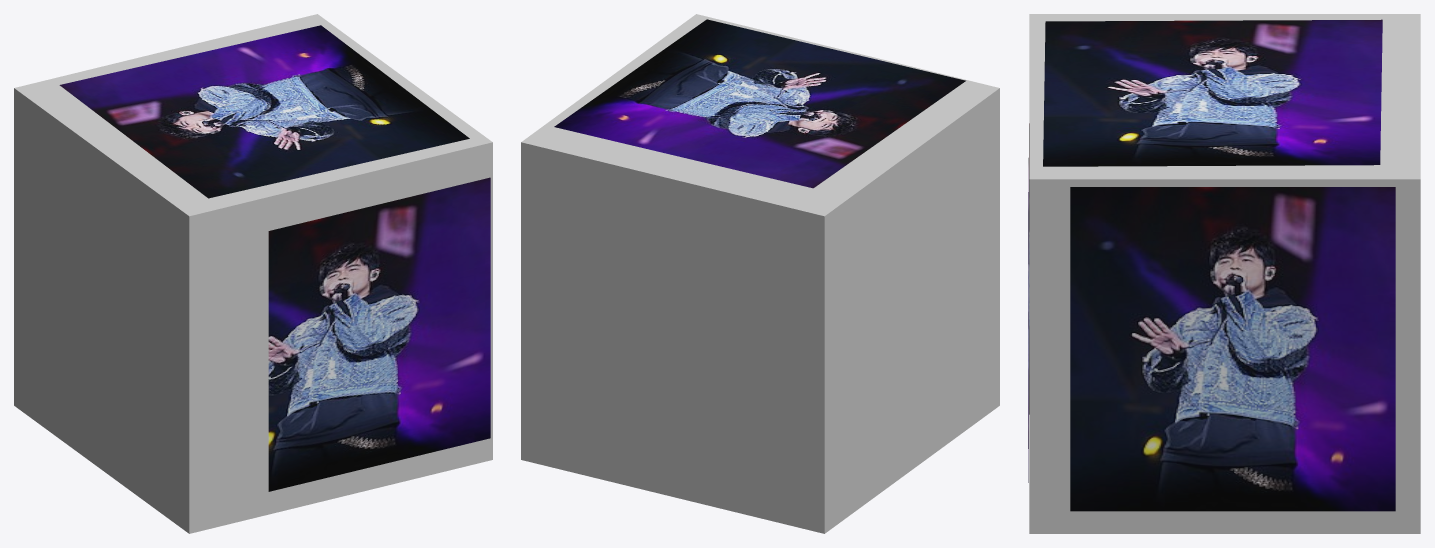
The model's file is jaychou.glb.
3 views of the same model, side by side, from view 1: azimuth 30°, elevation 25°; view 2: azimuth 150°, elevation 25°; view 3: azimuth 270°, elevation 25° (orthographic). The views are drawn at different scales.
Parts seen in each view (by area): view 1: Cube, 220px-咪咕音乐盛典_(25).001, 220px-咪咕音乐盛典_(25).002; view 2: Cube, 220px-咪咕音乐盛典_(25).002; view 3: 220px-咪咕音乐盛典_(25), Cube, 220px-咪咕音乐盛典_(25).002, 220px-咪咕音乐盛典_(25).001.
Boxes of the visible parts, x1,y1,x2,y2 form: Cube: (14, 14, 492, 533); 220px-咪咕音乐盛典_(25).001: (268, 177, 490, 491); 220px-咪咕音乐盛典_(25).002: (59, 25, 469, 198); Cube: (521, 14, 999, 533); 220px-咪咕音乐盛典_(25).002: (554, 19, 965, 188); 220px-咪咕音乐盛典_(25): (1070, 187, 1395, 511); Cube: (1029, 14, 1420, 533); 220px-咪咕音乐盛典_(25).002: (1043, 19, 1382, 166); 220px-咪咕音乐盛典_(25).001: (1028, 123, 1029, 482).
Size of the model in its own units: 2.01 by 2.05 by 2.01.
4 materials, 3 textured.
